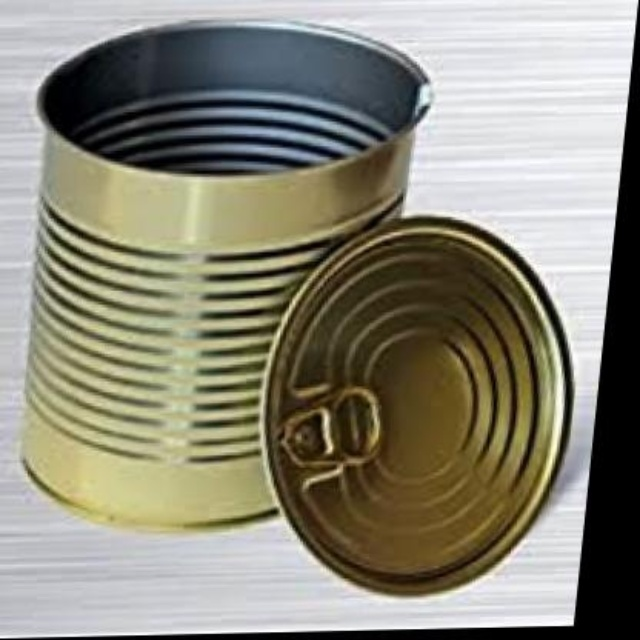trash: (23, 22, 572, 594), (23, 23, 429, 526), (263, 217, 572, 592)
